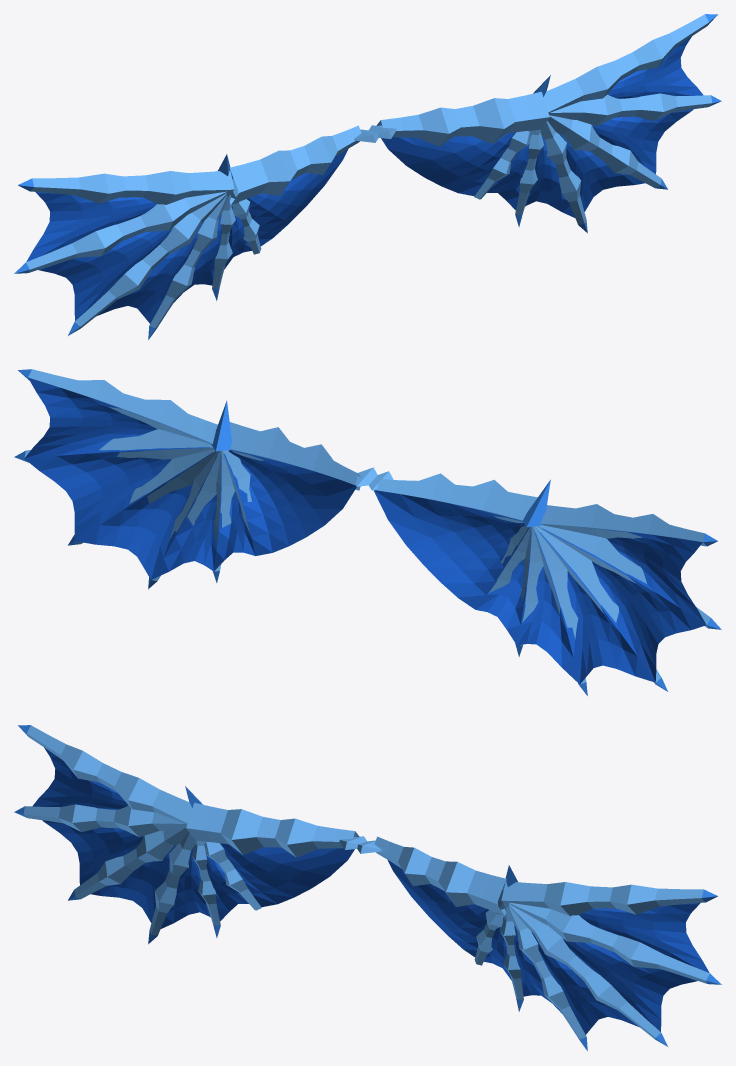
Rendered from azure_wings.obj.
3 renders of one model, top to bottom at view 1: azimuth 30°, elevation 25°; view 2: azimuth 150°, elevation 25°; view 3: azimuth 330°, elevation 25°, orthographic.
Parts seen in each view (by area): view 1: LeftWing, RightWing; view 2: RightWing, LeftWing; view 3: RightWing, LeftWing.
Part boxes in pixels (x1,y1,x2,y2): LeftWing: (14, 125, 378, 339); RightWing: (369, 14, 721, 233); RightWing: (14, 369, 377, 589); LeftWing: (369, 471, 721, 695); RightWing: (357, 836, 721, 1050); LeftWing: (14, 725, 366, 944).
Size of the model in its own units: 3.22 by 0.8311 by 0.2596.
